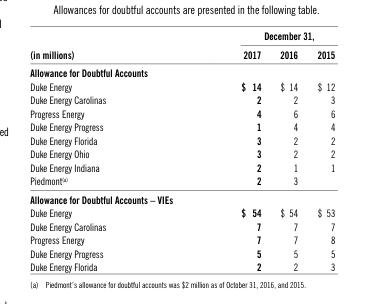table: (29, 29, 334, 272)
table column: (29, 29, 172, 272), (172, 29, 269, 272), (269, 29, 306, 272), (306, 29, 334, 272)
table column header: (29, 29, 334, 63)
table projected row header: (29, 63, 334, 79), (29, 189, 334, 205)
table row: (29, 44, 334, 63), (29, 63, 334, 79), (29, 173, 334, 189), (29, 189, 334, 205), (29, 29, 334, 44), (29, 92, 334, 106), (29, 119, 334, 133), (29, 146, 334, 160), (29, 205, 334, 219), (29, 232, 334, 246), (29, 79, 334, 92), (29, 106, 334, 119), (29, 133, 334, 146), (29, 160, 334, 173), (29, 219, 334, 232), (29, 246, 334, 259), (29, 259, 334, 272)
table spanning cell: (29, 29, 172, 63), (172, 29, 334, 44)
